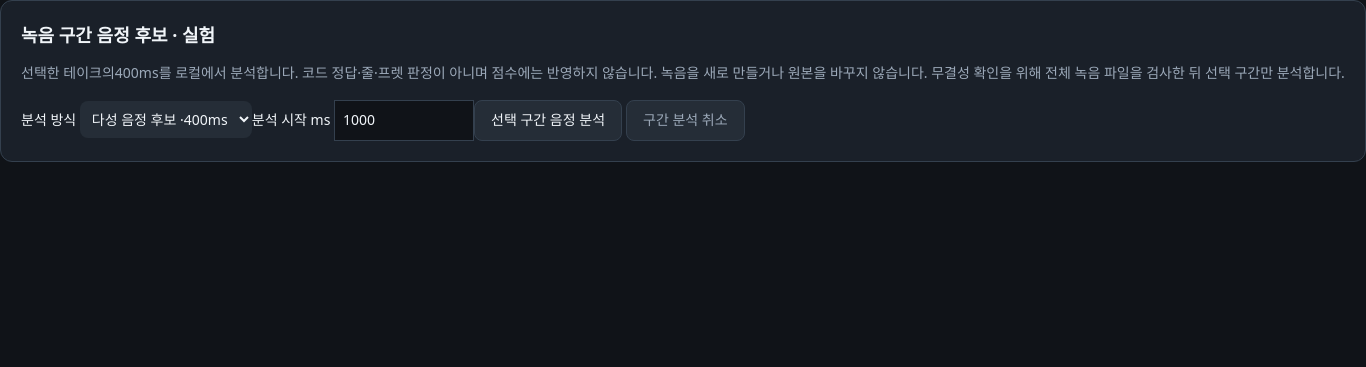
Test: 명시적 분석 후 음 이름/상대 강도와 한계를 표시하며 입력 변경 때 결과를 비운다
Click the button "선택 구간 음정 분석".
click(548, 120)  # box [474,100,622,141]
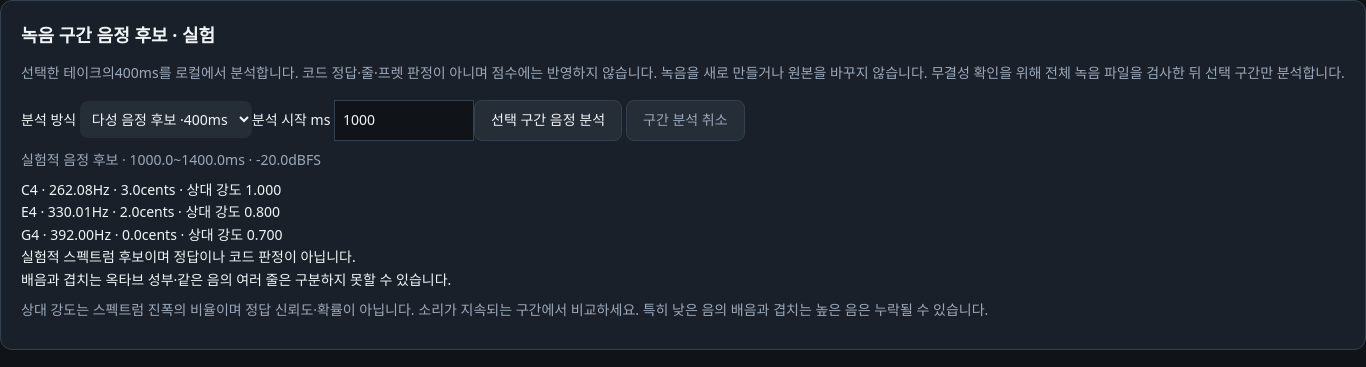
Check: the text "실험적 음정 후보 · 1000.0~1400.0ms · -20.0dBFS" is shown, box [21,150,321,169]
Check: the list item "C4 · 262.08Hz · 3.0cents · 상대 강도 1.000" is shown, box [21,180,281,199]
Check: the text "정답 신뢰도·확률이 아닙니다" is shown, box [21,300,988,319]
Replace the text in the number field labelled "분석 시작 ms" with "2000" at (404, 120), box [334,100,474,141]
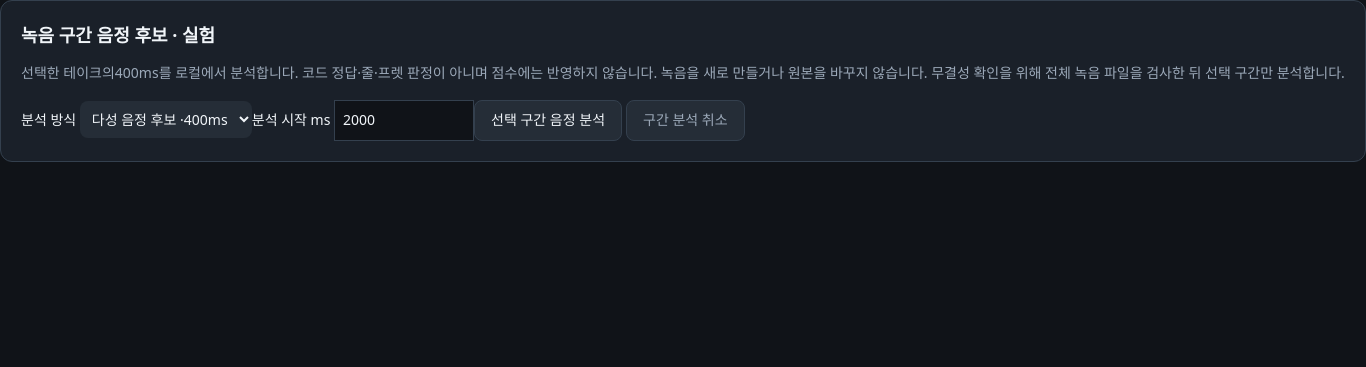
Check: the text "실험적 음정 후보" is gone
Clear the number field labelled "분석 시작 ms" at (404, 120), box [334,100,474,141]
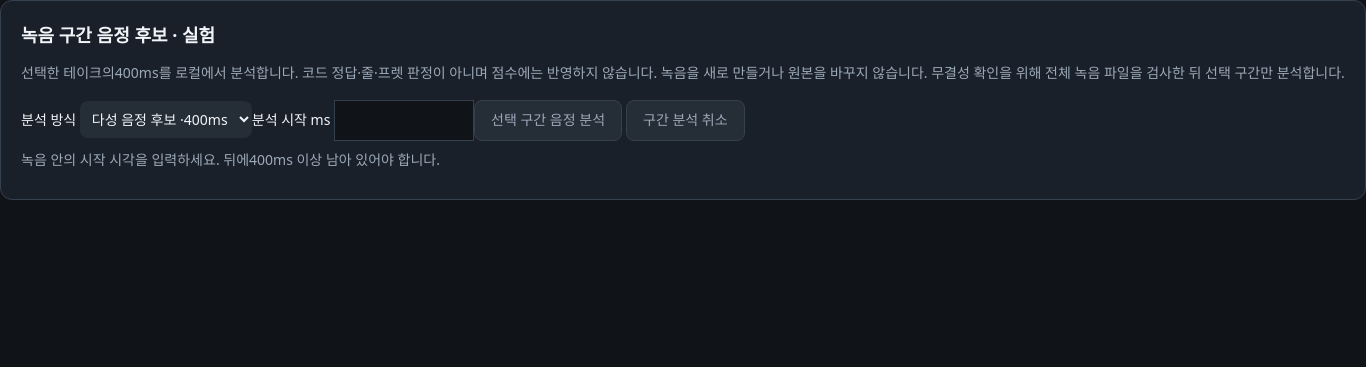
Check: the button "선택 구간 음정 분석" is disabled, box [474,100,622,141]
